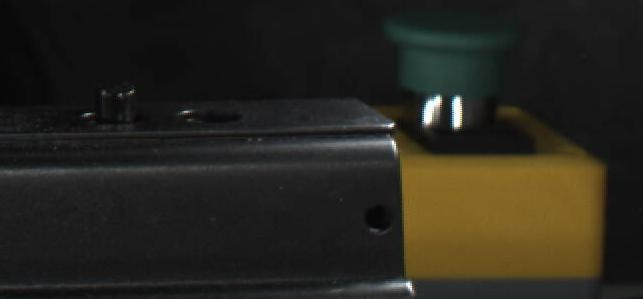screw: (94, 79, 145, 131)
